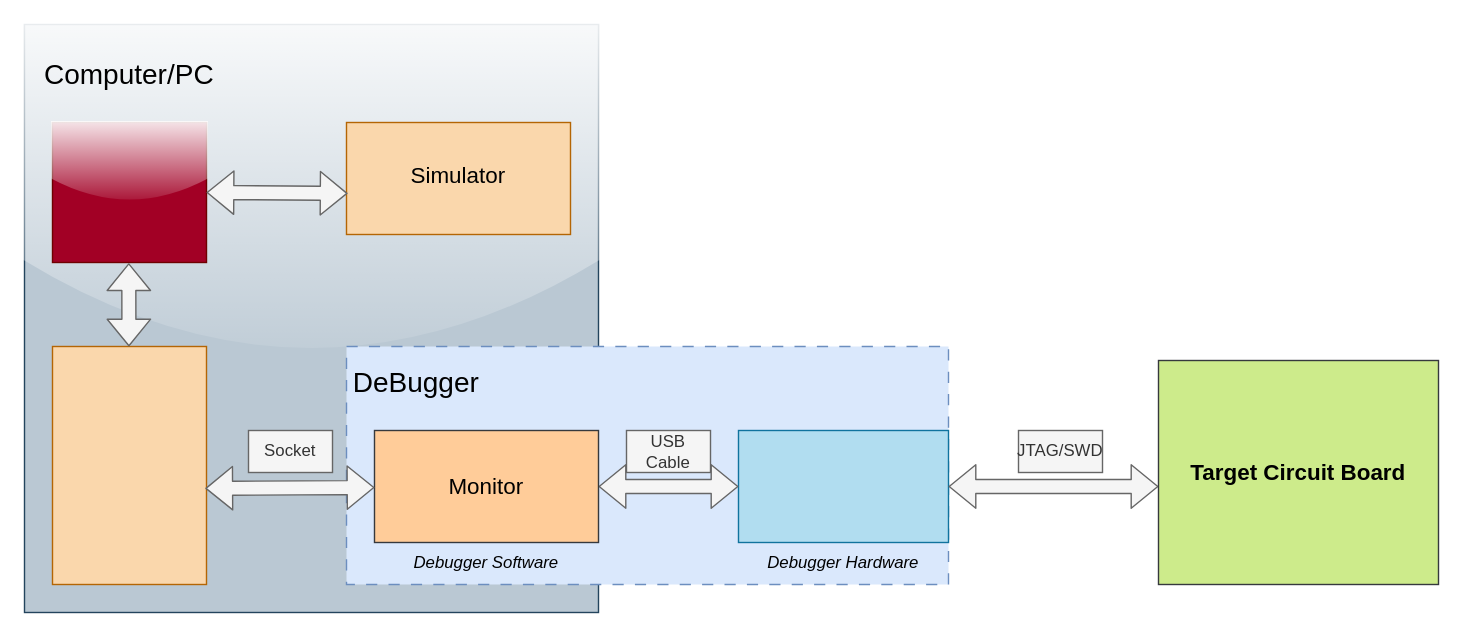
The diagram is 1463 pixels wide and 637 high, and some of its shapes have lost their labels. Each missing label, with the box of its shape:
Emulator/ Debug Adapter: (737, 429, 948, 542)
GDB: (51, 345, 206, 584)
User App: (51, 121, 206, 262)
